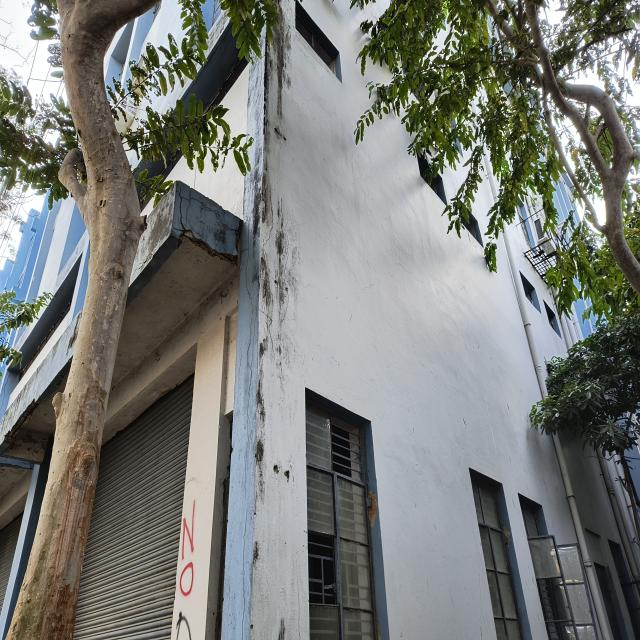crack: (185, 197, 225, 226), (241, 199, 251, 300), (246, 283, 254, 408), (241, 502, 248, 640), (172, 185, 190, 233), (262, 189, 274, 258), (284, 216, 293, 285), (295, 552, 301, 640), (0, 370, 12, 412), (218, 221, 236, 231)
peeling: (0, 428, 49, 463), (235, 220, 242, 253)
spalling: (178, 230, 237, 266), (3, 398, 41, 445)
stain_mould: (248, 0, 304, 640)
